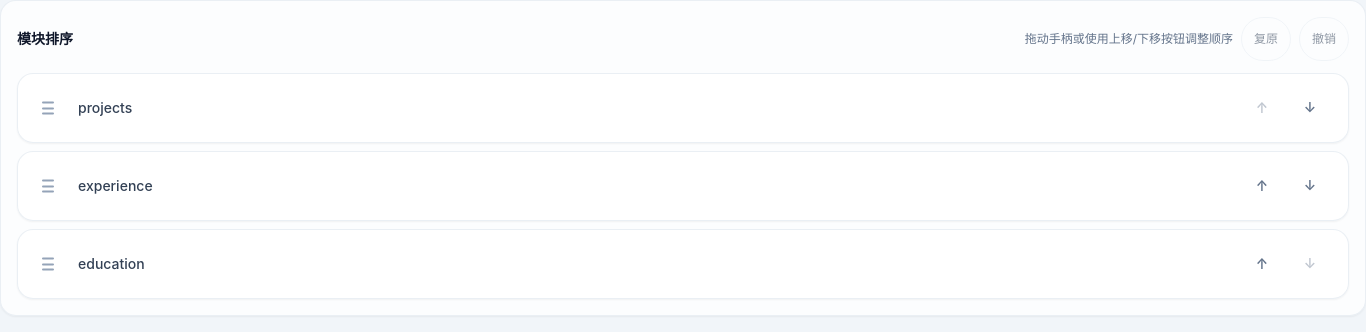
SectionSortPanel keyboard controls › moves focus to an enabled control after Undo and Reset
The width and height of the screenshot is (1366, 332).
Click the button "↑" in the row of "experience" at coordinates (1262, 186), box [1240,164,1284,208]
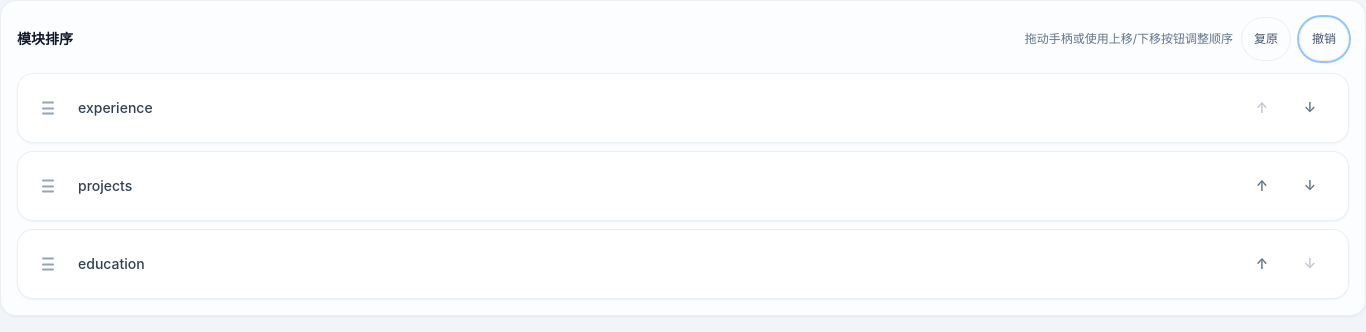
Click the button "撤销" at coordinates (1324, 39), box [1299,17,1349,61]
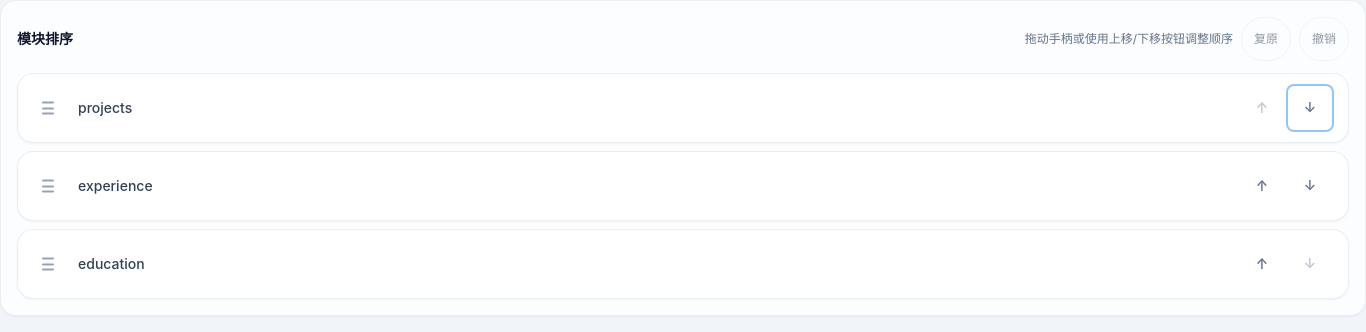
Expected: the button "↓" in the row of "projects" is enabled, [1288,86,1332,130]
Expected: the button "撤销" is disabled, [1299,17,1349,61]
Click the button "↑" in the row of "experience" at coordinates (1262, 186), box [1240,164,1284,208]
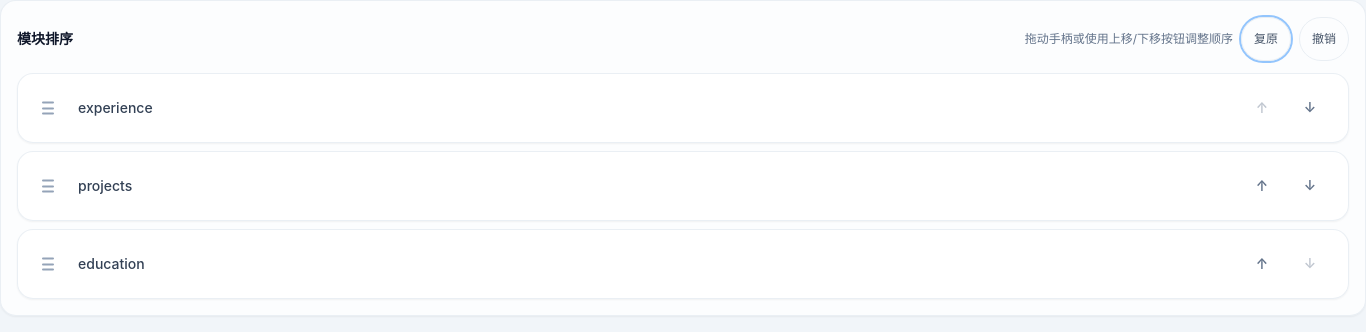
Click the button "复原" at coordinates (1266, 39), box [1241,17,1291,61]
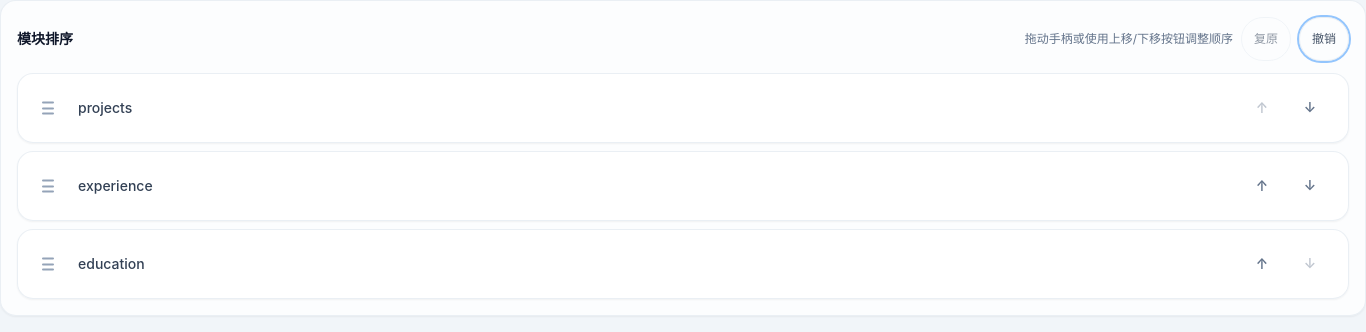
Expected: the button "撤销" is enabled, [1299,17,1349,61]
Expected: the button "复原" is disabled, [1241,17,1291,61]
